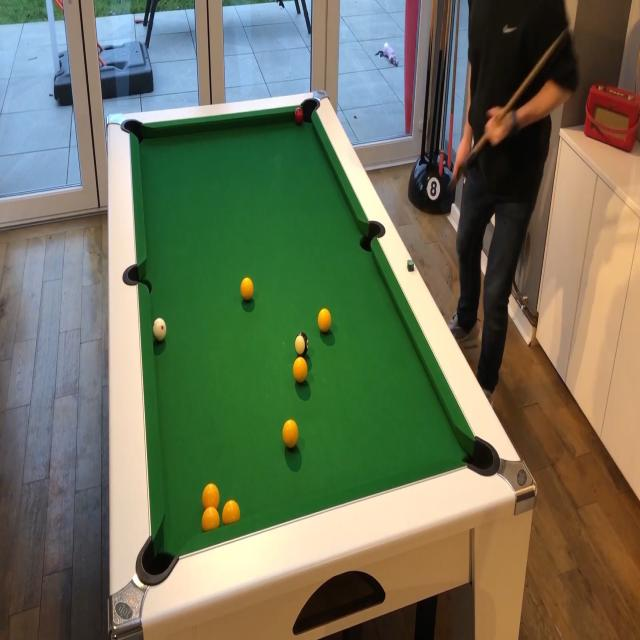Ball: (282, 419, 298, 449), (202, 483, 220, 509), (202, 507, 219, 530), (223, 500, 239, 524), (293, 358, 308, 383), (295, 332, 309, 356), (318, 309, 331, 333), (240, 278, 253, 300), (153, 318, 166, 340), (295, 108, 303, 125)
Billiard table: (107, 89, 537, 640)
